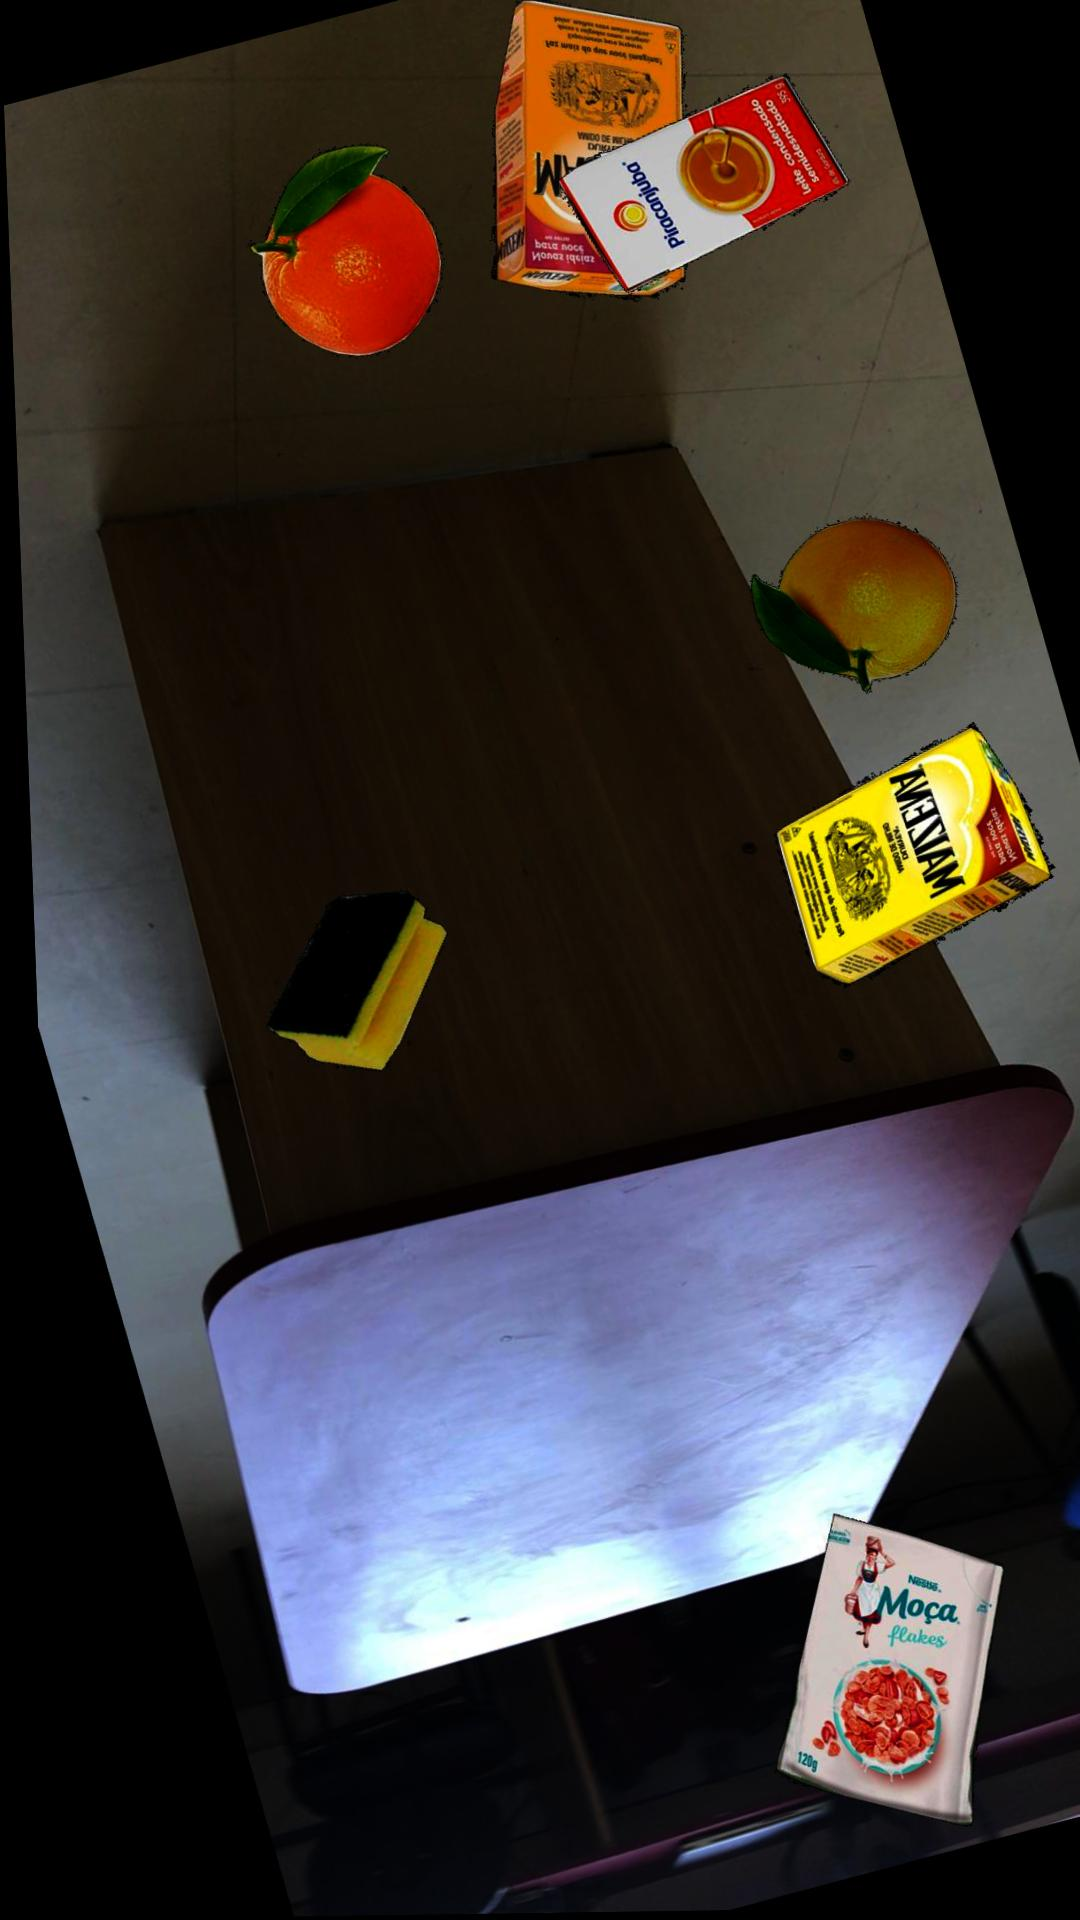corn flakes: (762, 1518, 994, 1830)
orange: (249, 146, 442, 359), (746, 521, 955, 695)
sponge: (260, 893, 443, 1073)
